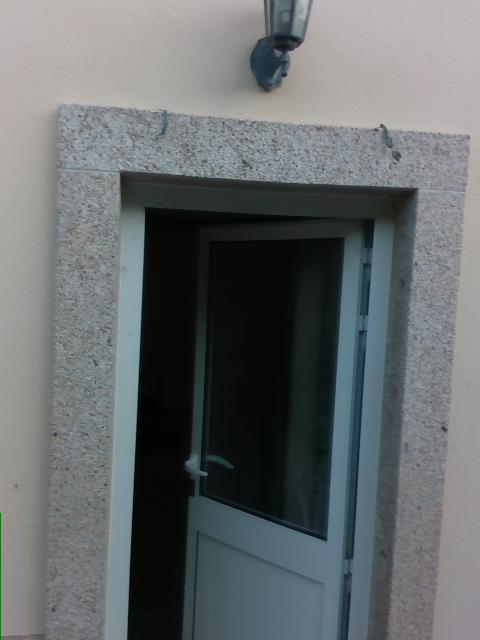semi_door: (104, 166, 418, 639)
